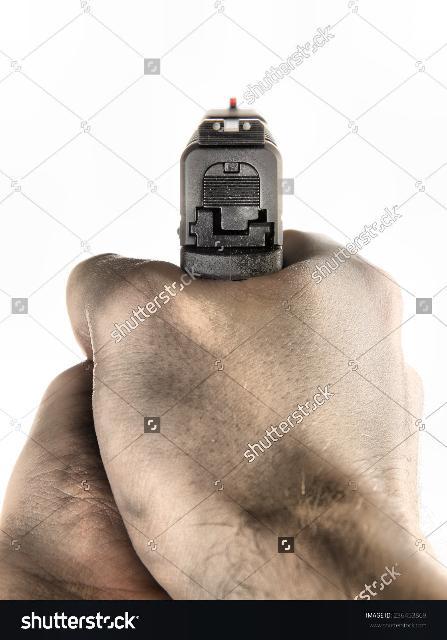pistol: (178, 95, 288, 278)
